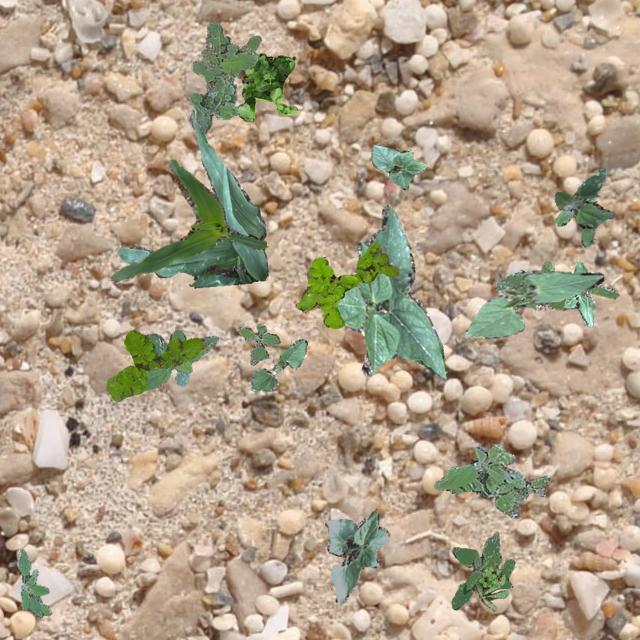crop: (116, 108, 266, 286), (336, 204, 446, 378), (110, 158, 266, 280), (464, 268, 602, 338), (324, 509, 388, 604), (250, 338, 306, 390), (370, 144, 424, 188), (562, 258, 594, 326)
weed: (432, 442, 550, 518), (294, 242, 398, 328), (188, 21, 260, 132), (106, 328, 206, 401), (494, 260, 618, 308), (451, 532, 514, 608), (554, 167, 614, 246), (142, 328, 218, 389), (235, 51, 298, 120), (15, 548, 50, 616), (236, 322, 278, 364), (474, 566, 508, 610)
